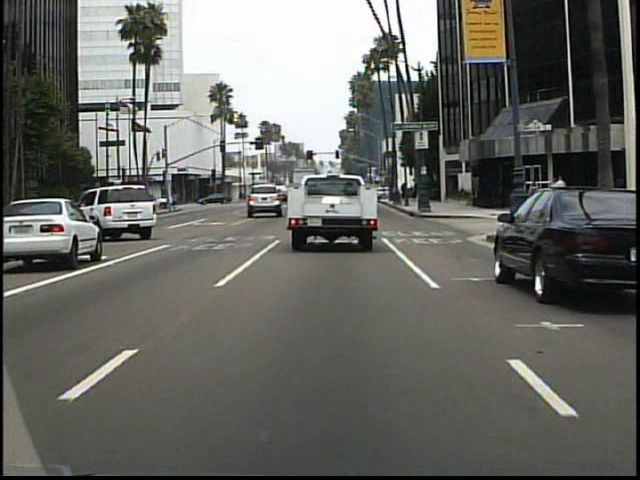person: (552, 173, 570, 213), (174, 189, 175, 214)
